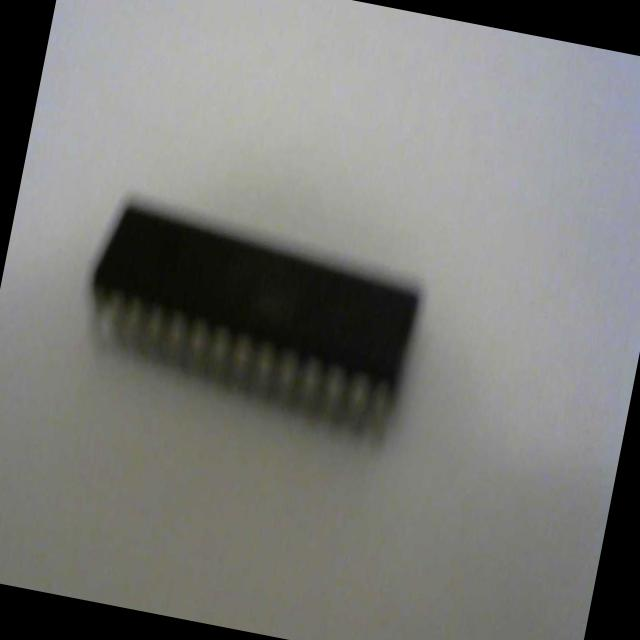atmega: (68, 184, 435, 452)
